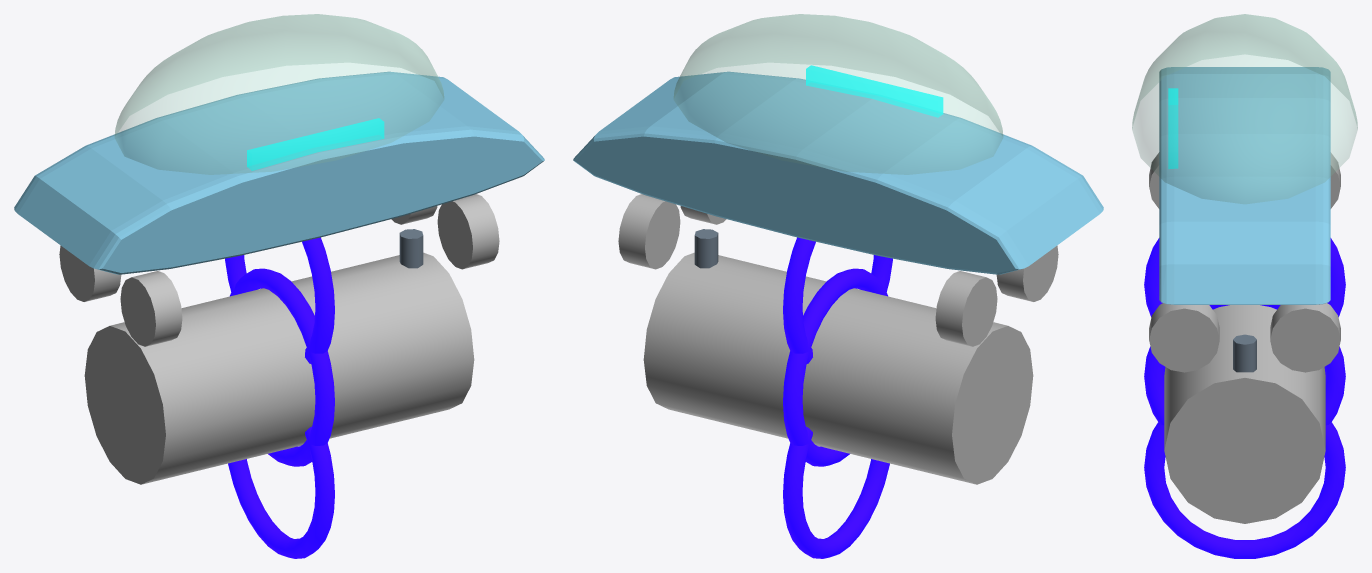
Rendered from vehicles.glb.
The picture shows the model from 3 angles, left to right: view 1: azimuth 30°, elevation 25°; view 2: azimuth 150°, elevation 25°; view 3: azimuth 270°, elevation 25°; orthographic projection.
Size of the model in its own units: 5.14 by 5.65 by 2.24.
